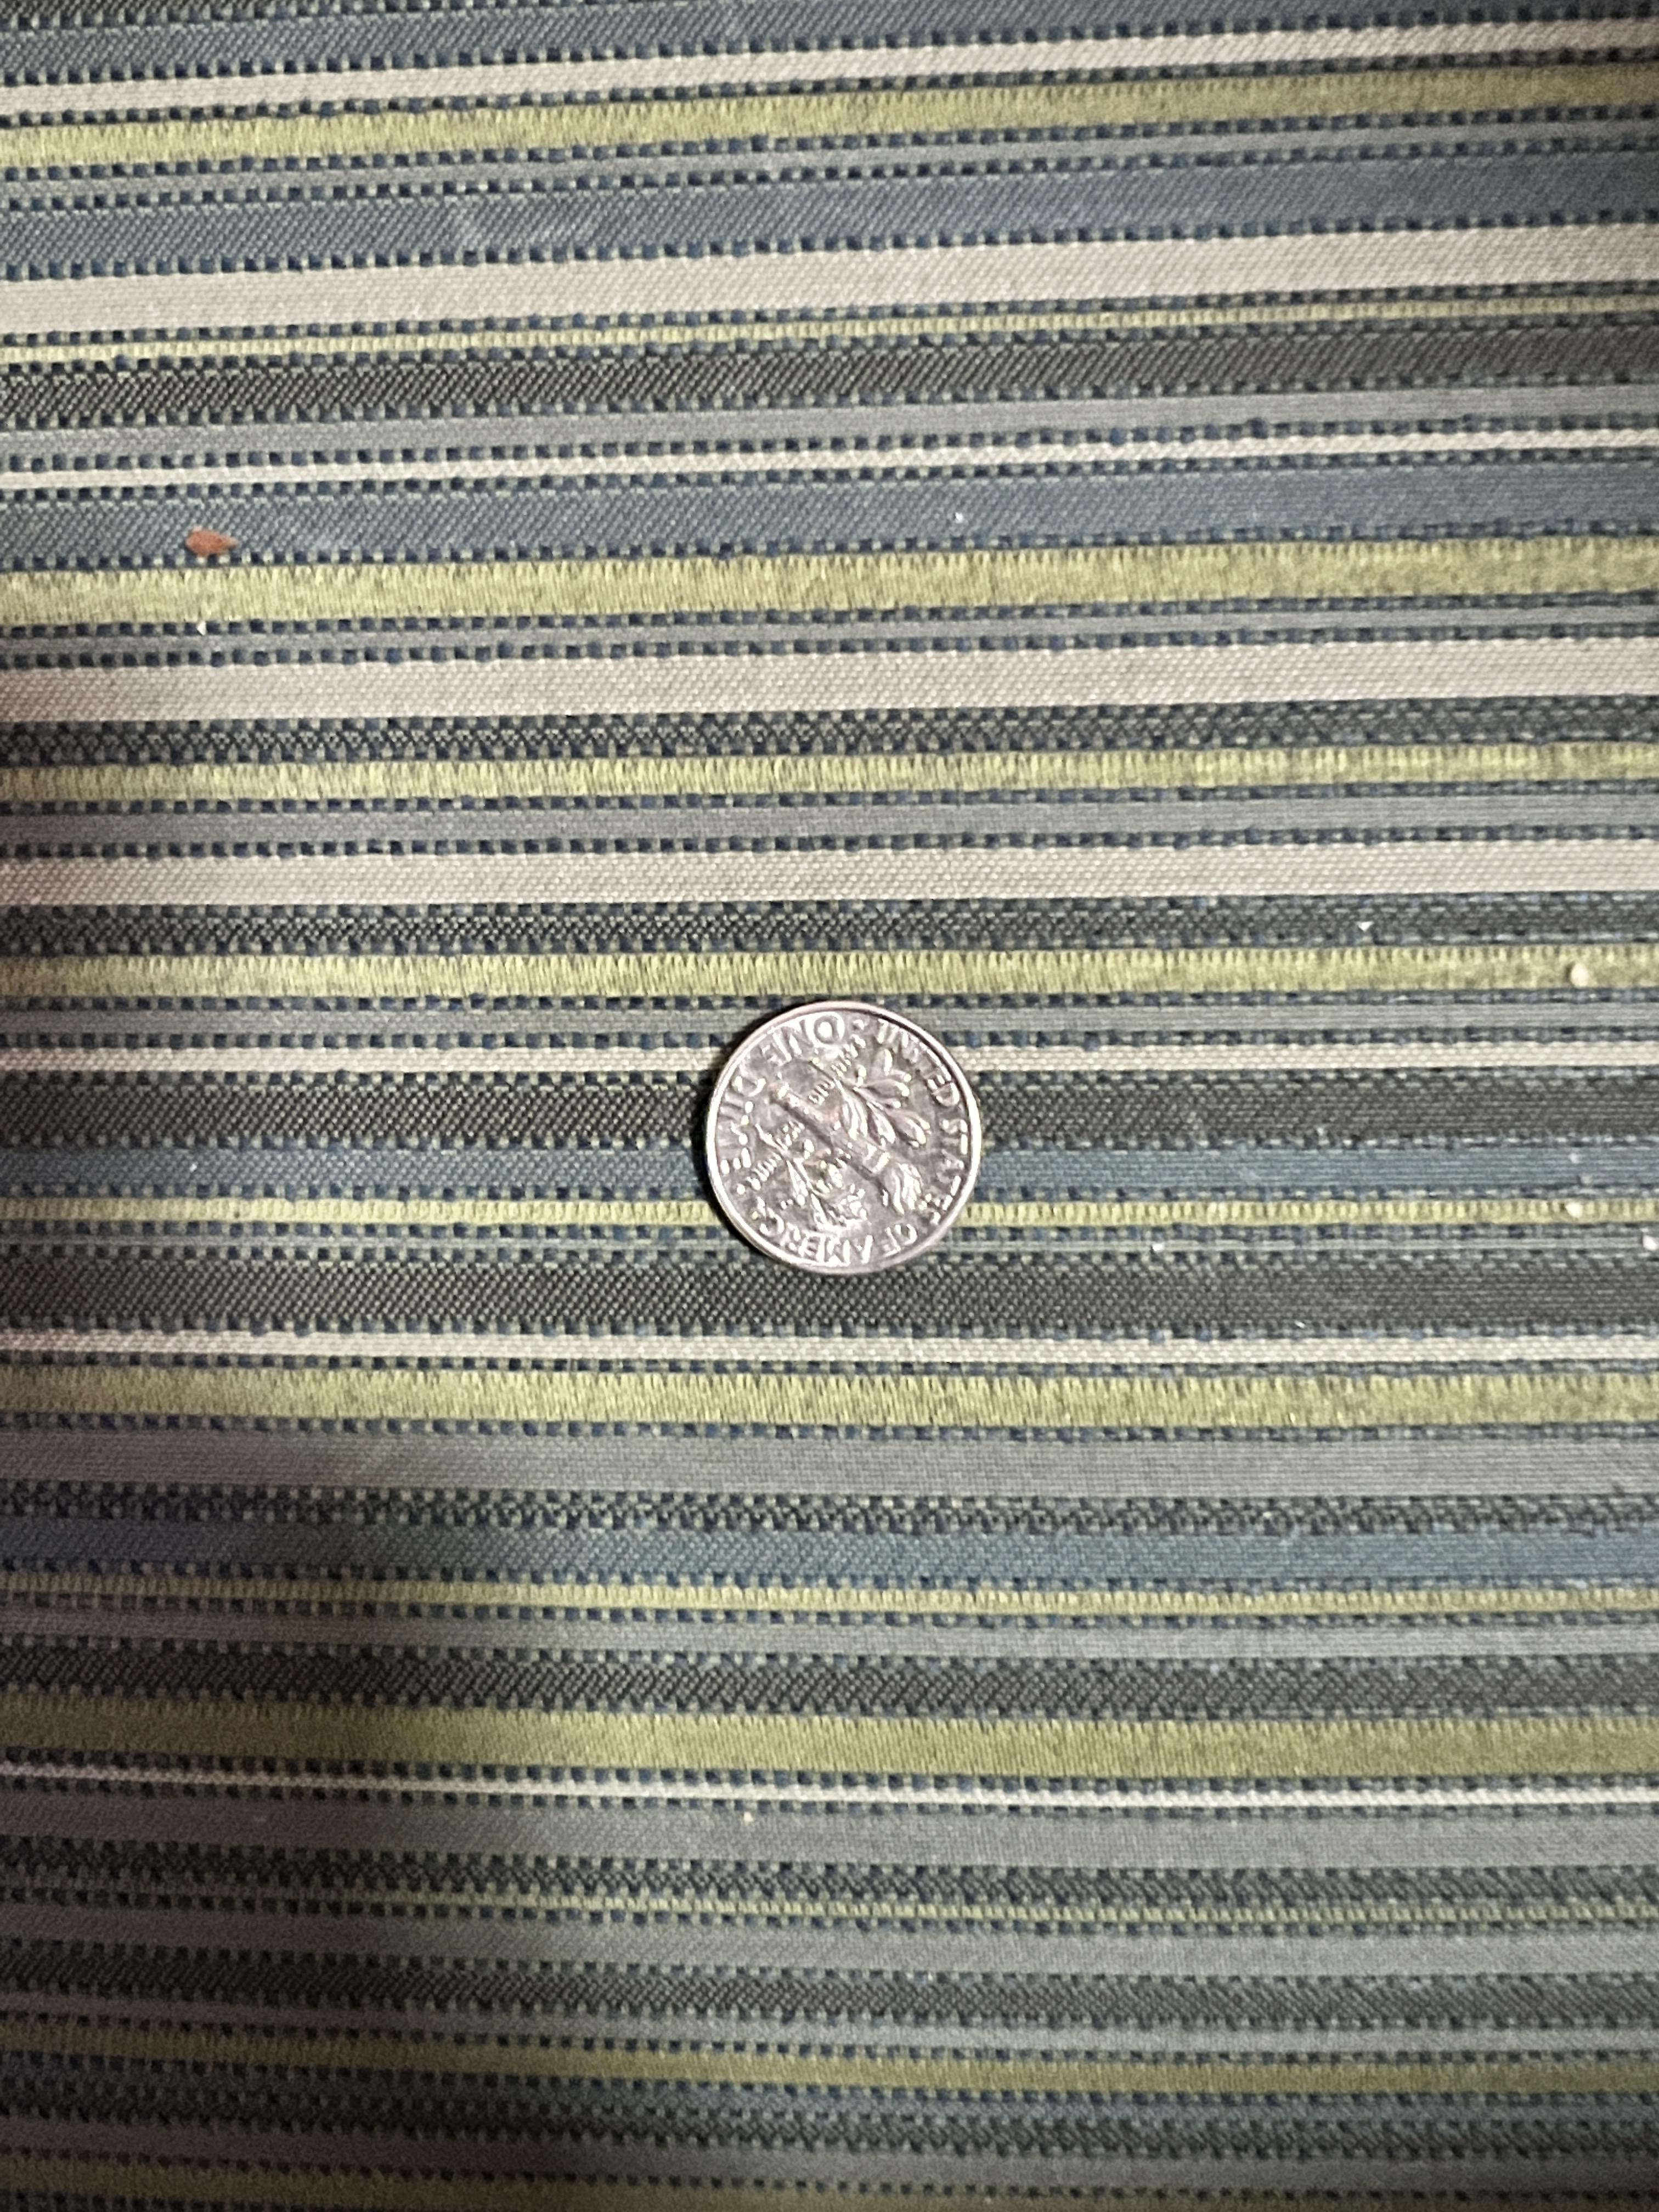Dime: (685, 996, 995, 1285)
